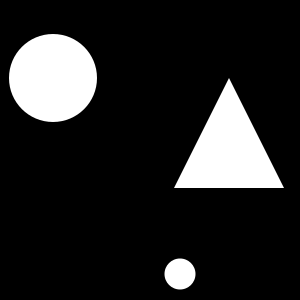rectangle: (9, 34, 97, 122), (164, 258, 195, 290)
triangle: (174, 78, 284, 188)
